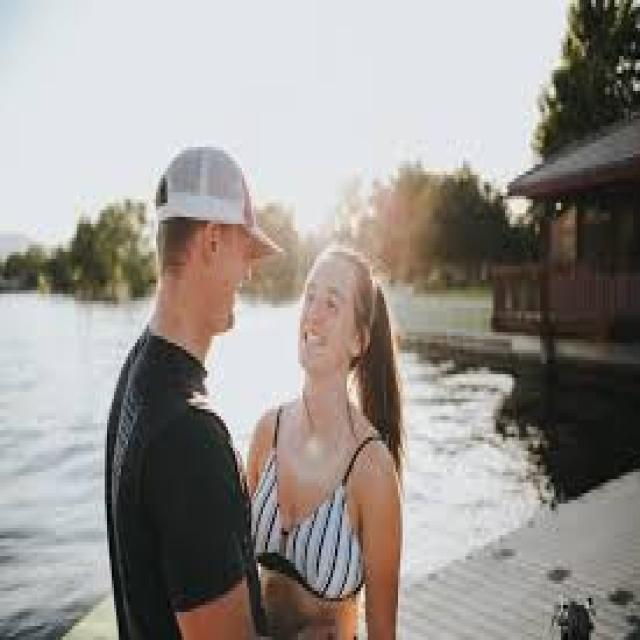cap: (144, 126, 286, 311)
